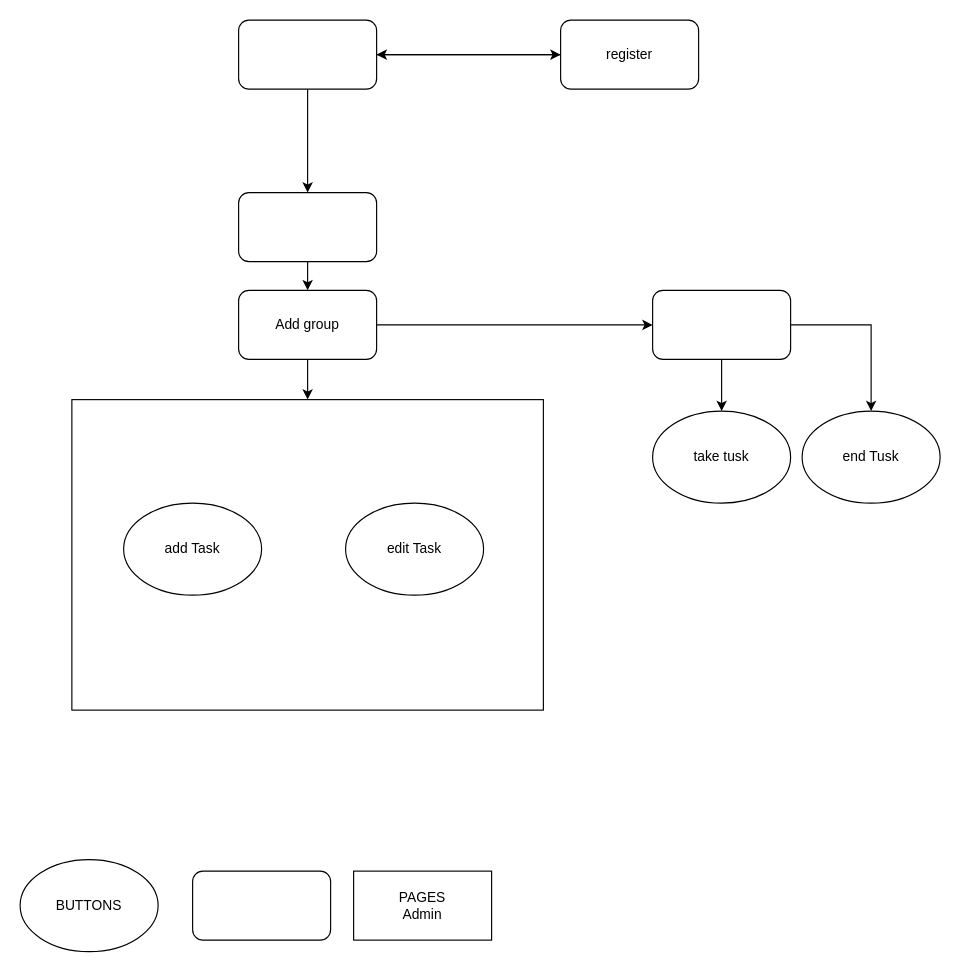
Some shapes in this 960 by 972 pixel diagram are drawn without their labels. The centre of each missing label's shape, as x and y in pixels:
"dashboard" belongs at (307,226).
"login" belongs at (307,54).
"PAGES User" belongs at (261,905).
"user profile" belongs at (721,324).
